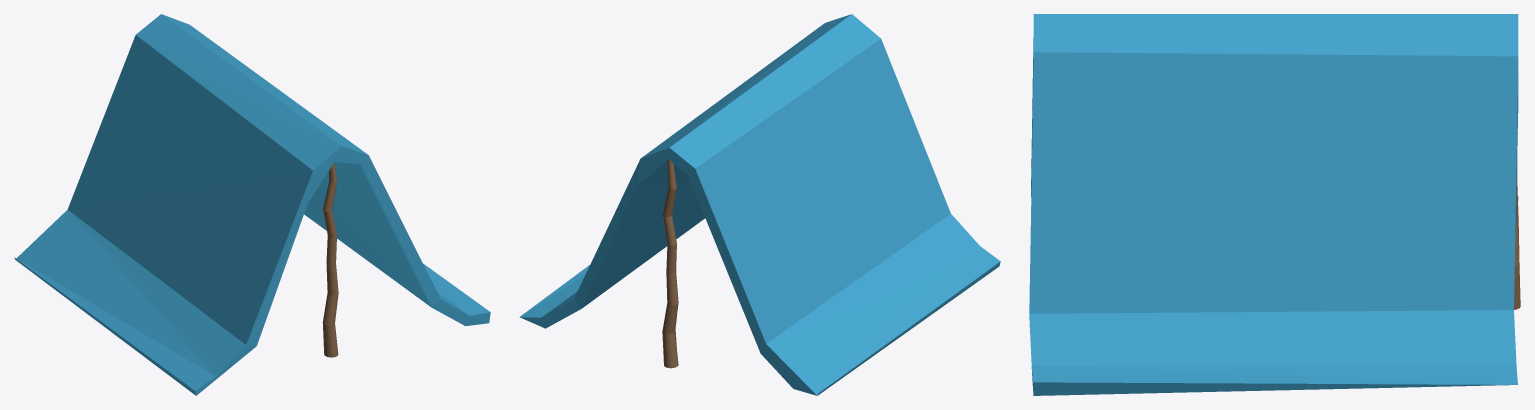
The model's file is tent_blue.fbx.
3 views of the same model, side by side, from view 1: azimuth 30°, elevation 25°; view 2: azimuth 150°, elevation 25°; view 3: azimuth 270°, elevation 25° (orthographic). The views are drawn at different scales.
Parts seen in each view (by area): view 1: tent_blue; view 2: tent_blue; view 3: tent_blue.
Boxes of the visible parts, x1,y1,x2,y2 form: tent_blue: (14, 14, 490, 395); tent_blue: (519, 14, 1000, 395); tent_blue: (1029, 14, 1520, 395).
Size of the model in its own units: 647 by 454 by 694.
